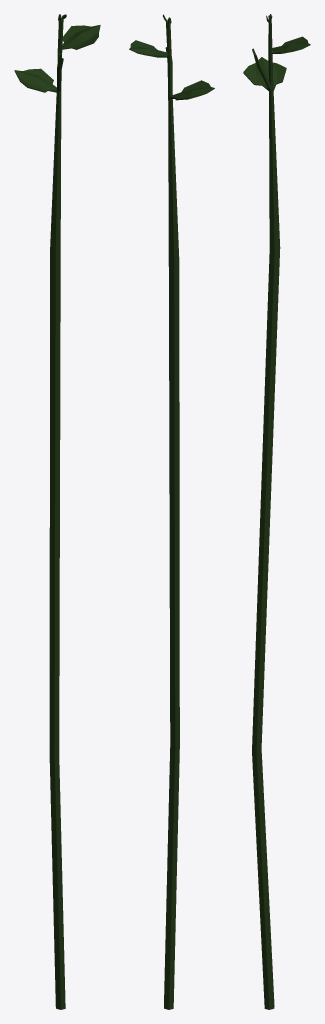
3 renders of one model, left to right at view 1: azimuth 30°, elevation 25°; view 2: azimuth 210°, elevation 25°; view 3: azimuth 330°, elevation 25°, orthographic.
Visible parts, largest first — view 1: 冬葵_pCube4; view 2: 冬葵_pCube4; view 3: 冬葵_pCube4.
Boxes of the visible parts, x1=… form: 冬葵_pCube4: x1=14, y1=14, x2=100, y2=1009; 冬葵_pCube4: x1=129, y1=14, x2=214, y2=1009; 冬葵_pCube4: x1=243, y1=14, x2=310, y2=1009.
Size of the model in its own units: 3.04 by 2.26 by 40.53.
